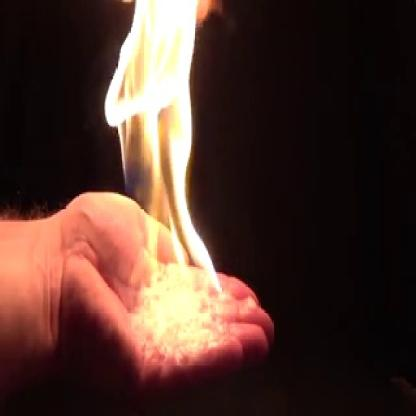fire: (96, 0, 226, 317)
